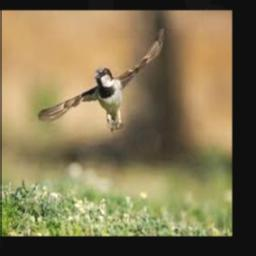Sparrow: (37, 28, 164, 131)
